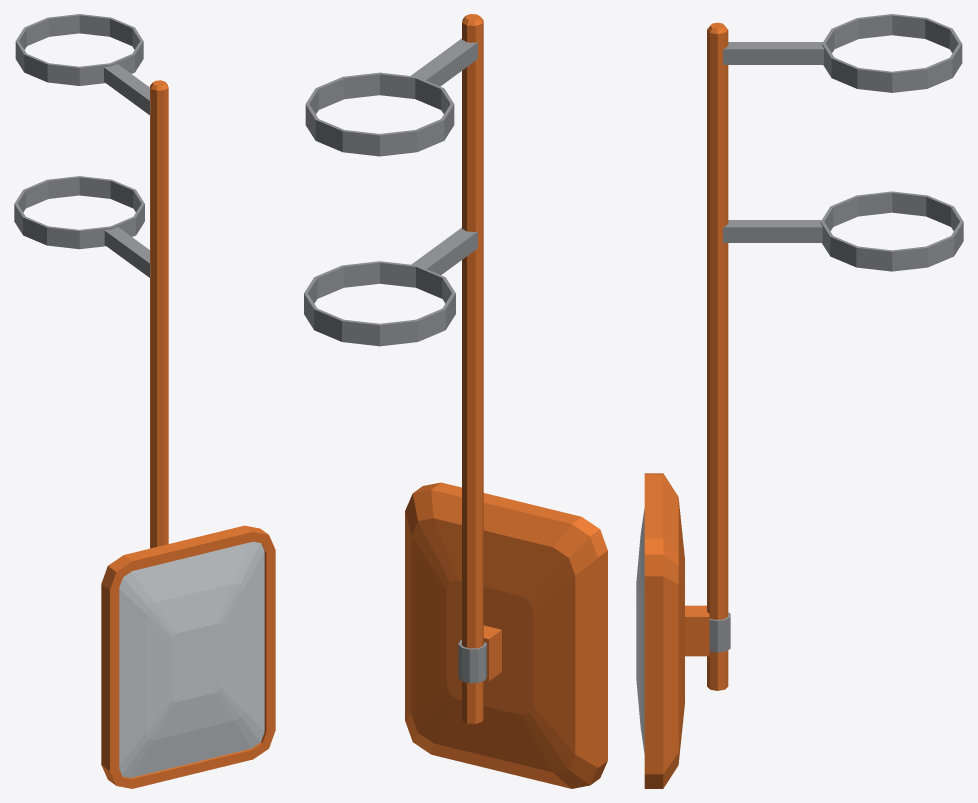
File: SM_Street_CurveMirrorClamp_Square_Single_01.gltf
3 renders of one model, left to right at view 1: azimuth 30°, elevation 25°; view 2: azimuth 150°, elevation 25°; view 3: azimuth 270°, elevation 25°, orthographic. The views are drawn at different scales.
Parts seen in each view (by area): view 1: SM_Street_CurveMirrorClamp_Square_Single_01; view 2: SM_Street_CurveMirrorClamp_Square_Single_01; view 3: SM_Street_CurveMirrorClamp_Square_Single_01.
Part boxes in pixels (<box>): SM_Street_CurveMirrorClamp_Square_Single_01: <box>14,14,275,788</box>; SM_Street_CurveMirrorClamp_Square_Single_01: <box>304,14,607,788</box>; SM_Street_CurveMirrorClamp_Square_Single_01: <box>636,14,963,788</box>.
Bounding box in the file's own units: 0.48 × 1.84 × 0.7497.
Materials: 1 (1 with a texture image).
